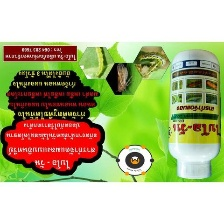insecticide: (165, 48, 223, 180)
